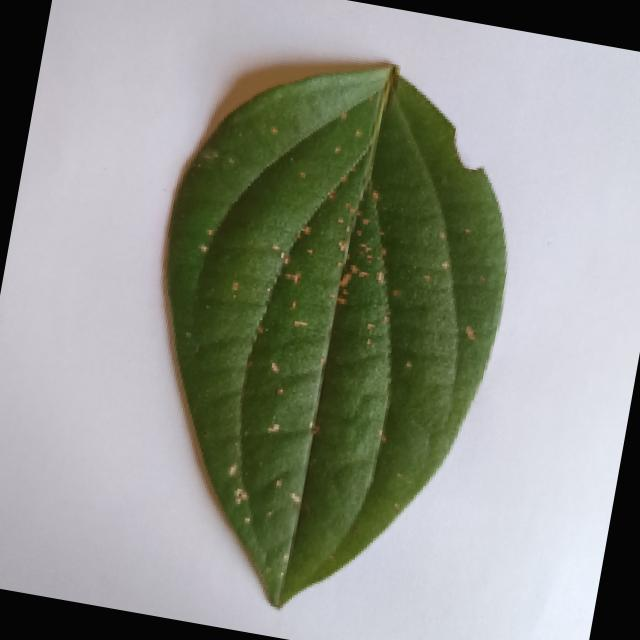pollu-disease: (112, 31, 544, 634)
